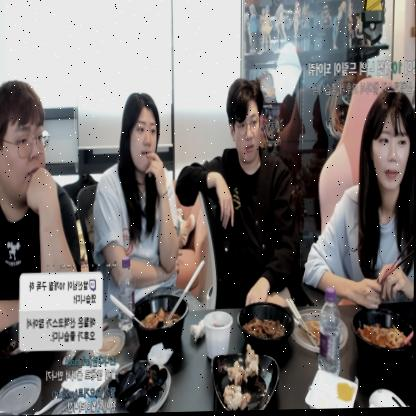donation: (308, 0, 416, 98)
streamer: (175, 77, 299, 317), (303, 89, 415, 318), (0, 79, 82, 350), (93, 93, 180, 315)
